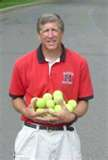tennis ball: (52, 88, 65, 100), (42, 90, 54, 103), (67, 98, 79, 110)
